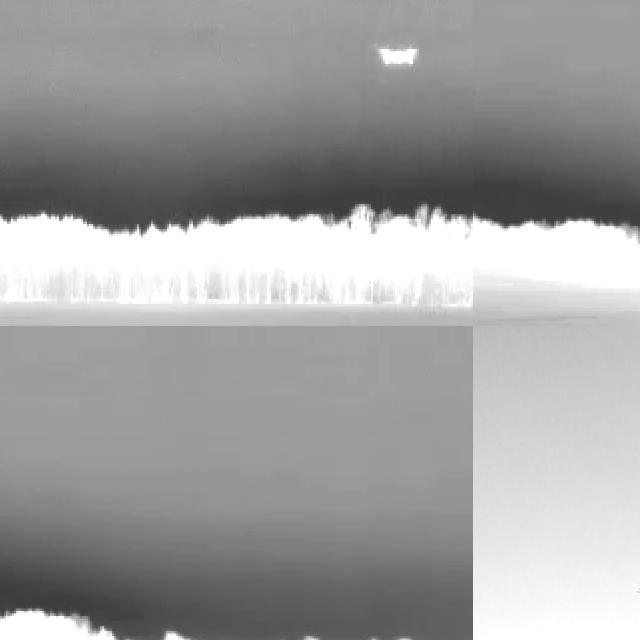1: (370, 40, 430, 76)
drone: (633, 580, 640, 607)
